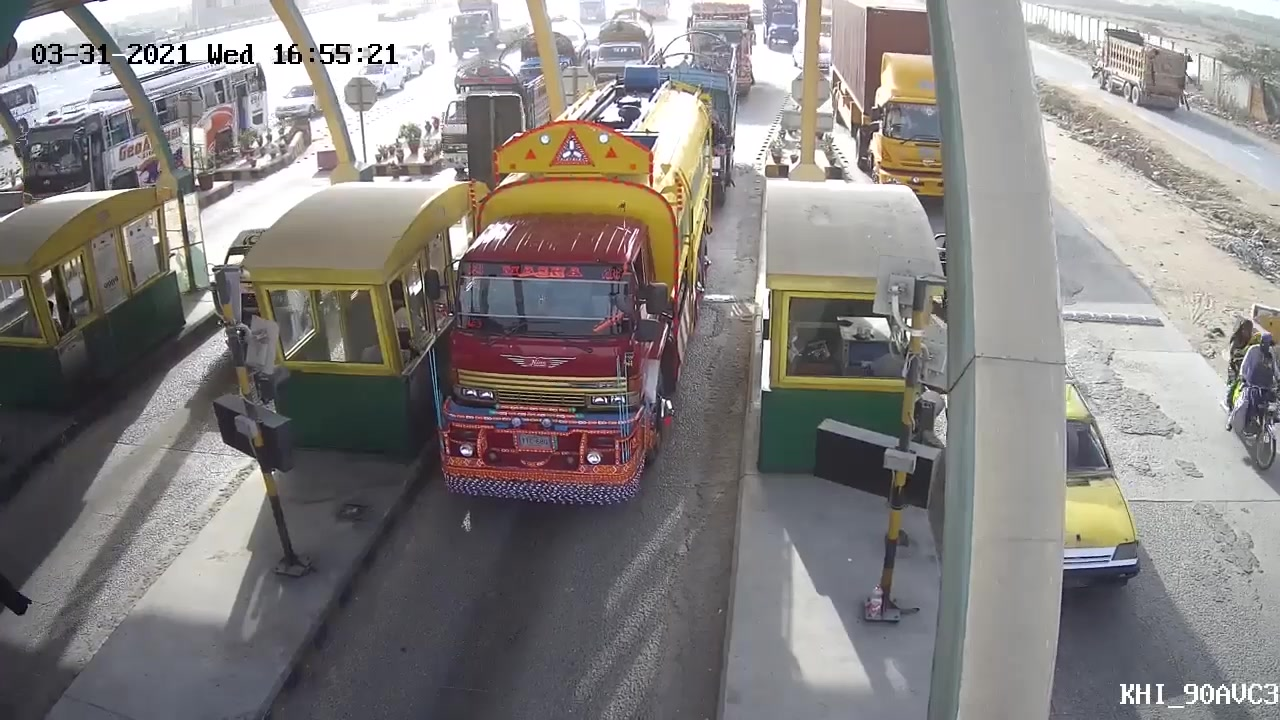F6: (424, 77, 738, 542)
